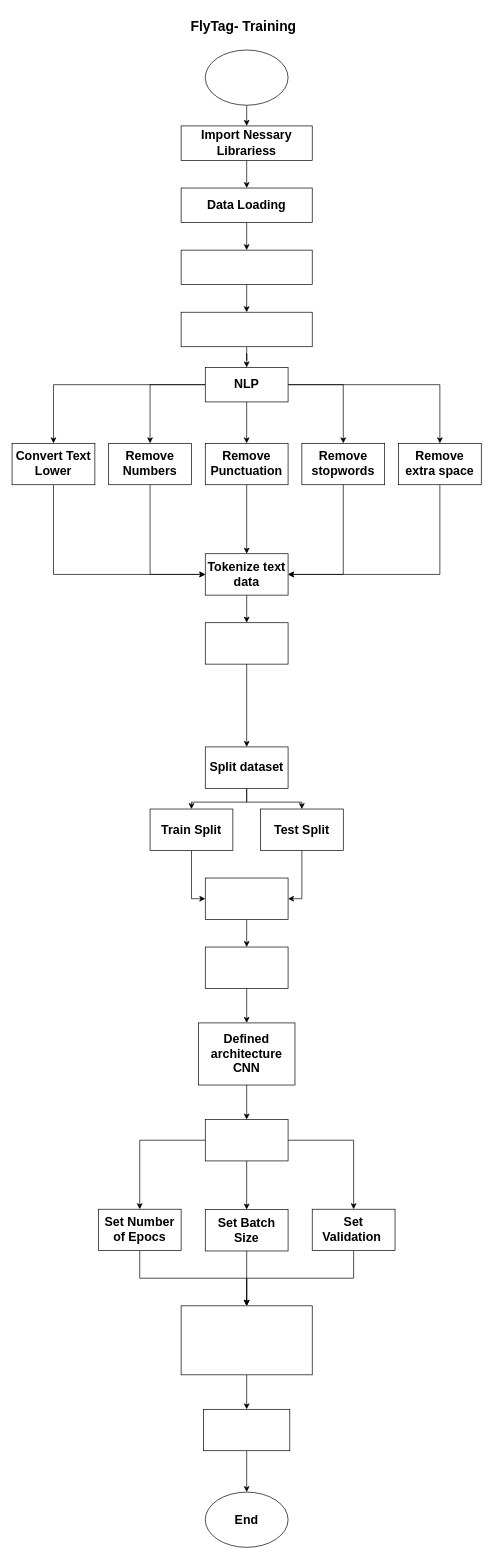
Image size: 493x1559. Some labels were removed from this diagram. The shapes that lost their labels are listed below. From the top down, each one's centre as x and y in pixels, then its label:
point 246,77: Start
point 246,267: Visualize data for analysis
point 246,329: Start Cleaning process
point 246,643: Encode Labels
point 246,898: Model defination
point 246,967: Define Model architecture
point 246,1140: Trianing
point 246,1340: Evaluate Model Performance
point 246,1430: Save Model
